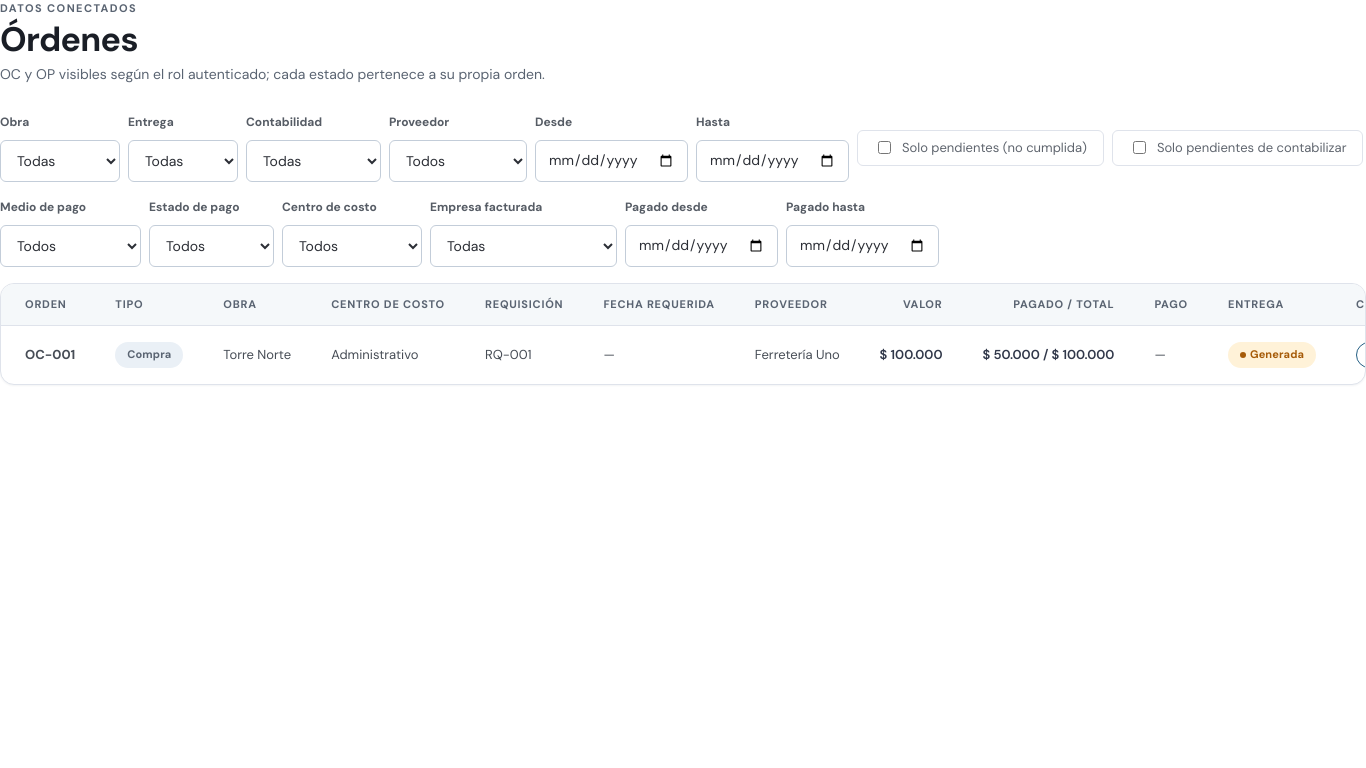
it: estado de pago derivado (RF-508) › sin estado de pago en la fila (payload sin join) la celda dice — y la ficha no inventa un eje
Click the text "OC-001" at (50, 354), box 25,346 -> 75,363
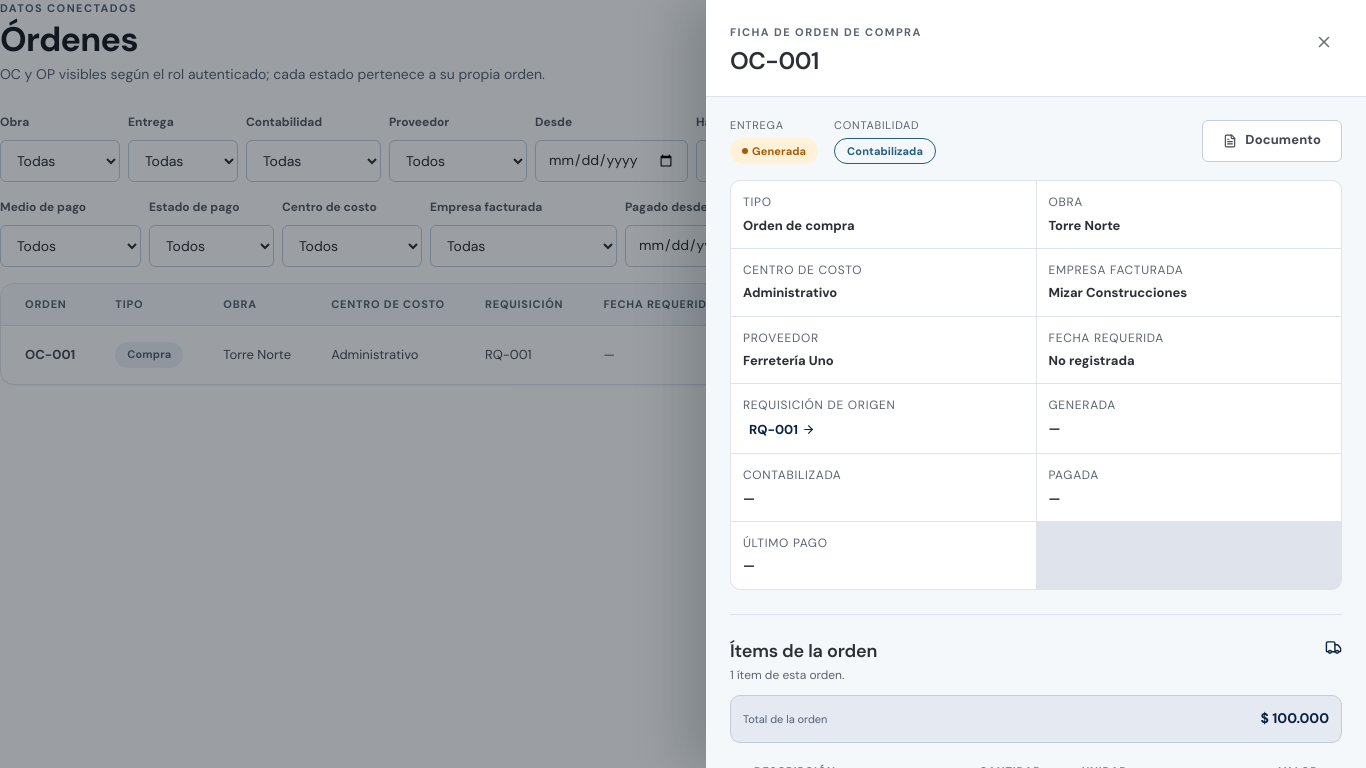
Expected: the dialog "OC-001" is shown, 706,0 -> 1365,767
